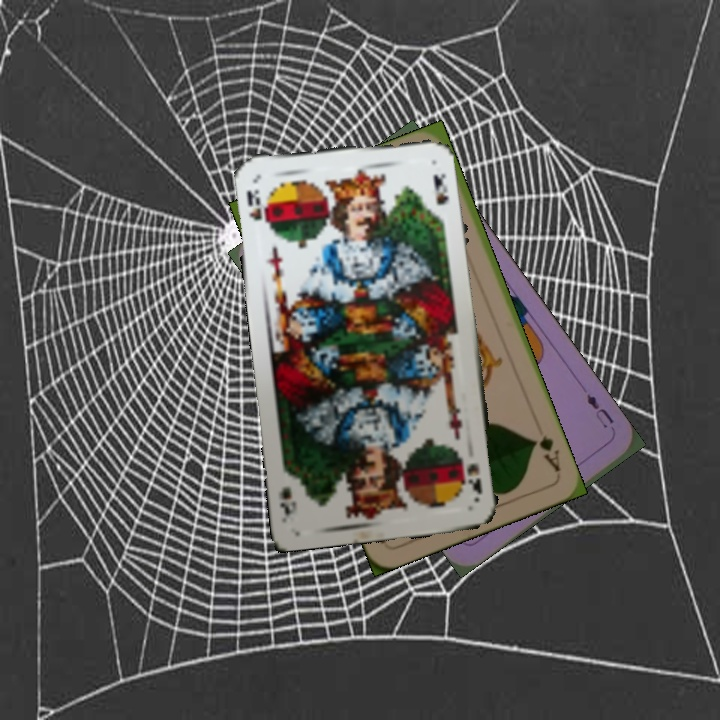EU: (582, 389, 616, 431)
GA: (529, 432, 564, 475)
SK: (242, 185, 272, 235), (457, 453, 485, 497)
